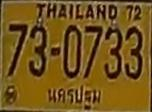0: (63, 24, 81, 77)
3: (103, 26, 122, 78), (28, 24, 46, 76), (124, 26, 142, 78)
7: (8, 23, 27, 72), (84, 25, 102, 75)
NPT: (46, 81, 104, 111)
